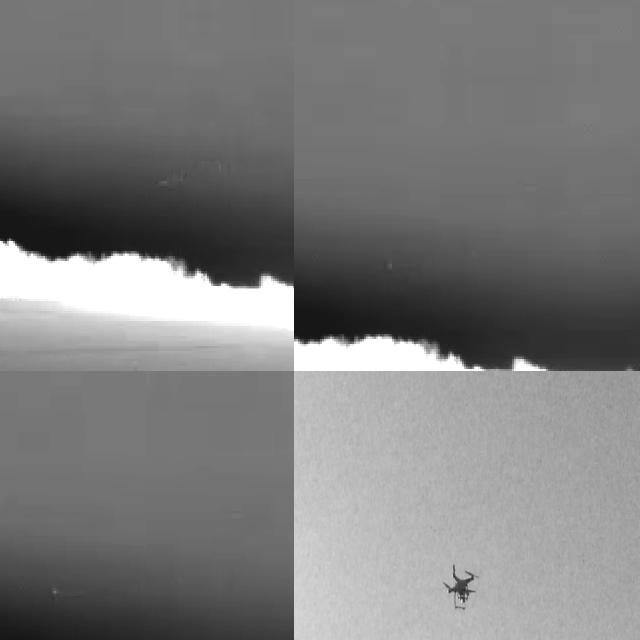0: (377, 252, 407, 284), (41, 579, 71, 611), (150, 171, 180, 201)
drone: (444, 561, 480, 611)
